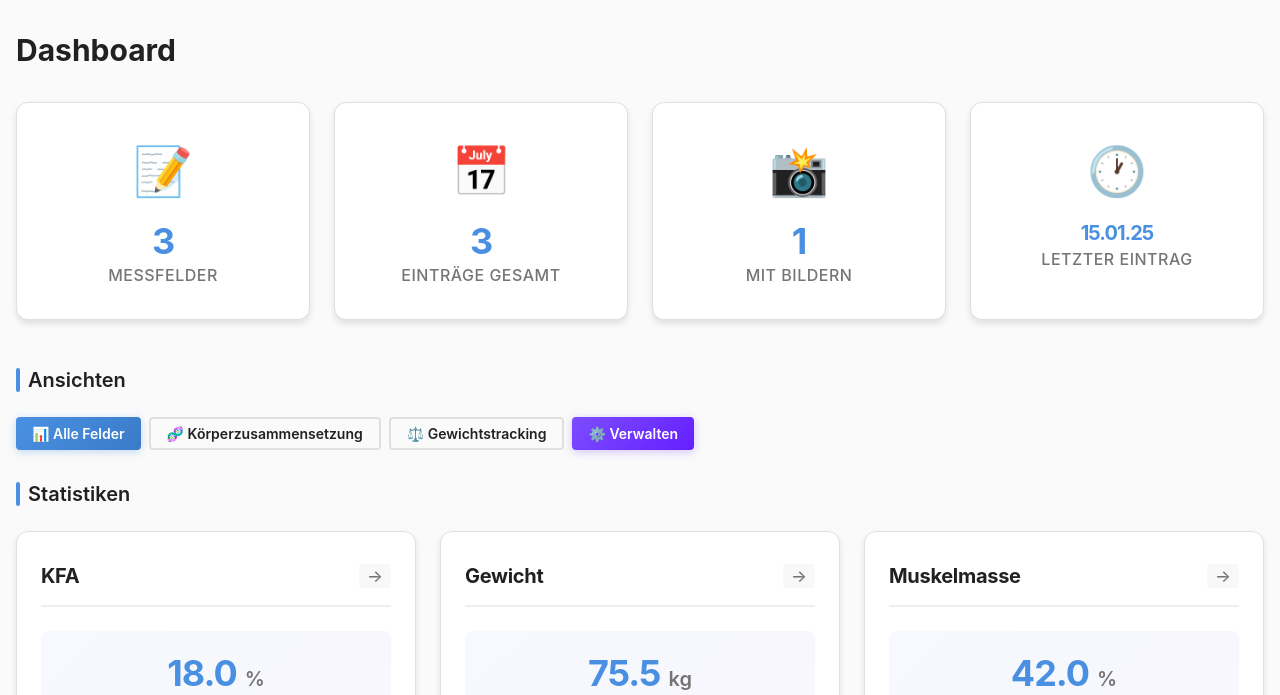
HomePage Component › Statistics Section › should display config name as title when selected
This screenshot has width=1280, height=695.
What coordinates should you click on to do the following:
click the button "🧬 Körperzusammensetzung"
I would click on:
 (265, 433)
Its box is [149,416,381,450].
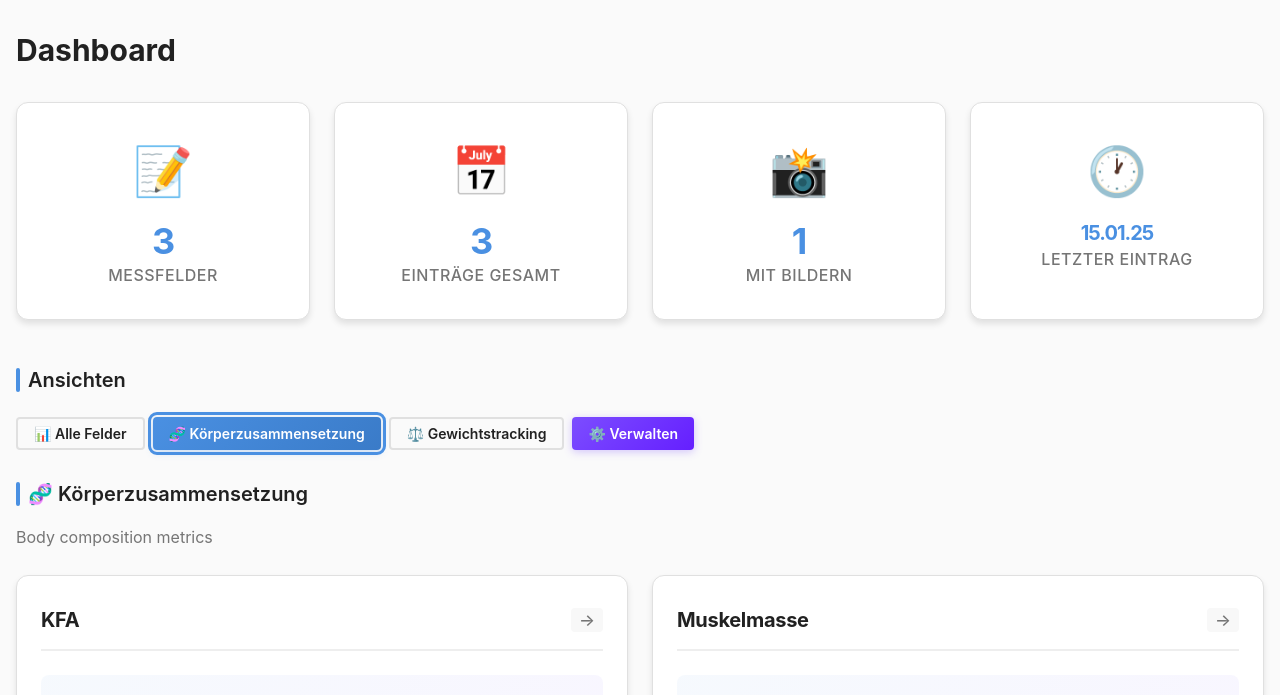
Result: the heading "🧬 Körperzusammensetzung" is shown at [28,482,308,506]
